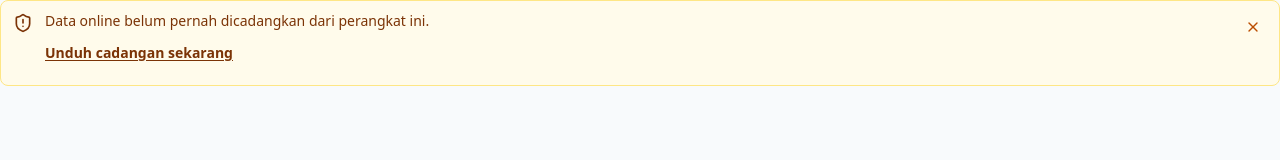
Test: BackupReminderBanner › online: reminds the owner/admin and downloads the full online backup
This screenshot has width=1280, height=160.
expect the text "Data online belum pernah dicadangkan dari perangkat ini." is shown: met, box [45,11,429,30]
Click the button "Unduh cadangan sekarang" at {"x": 139, "y": 53}, box [37,31,241,75]
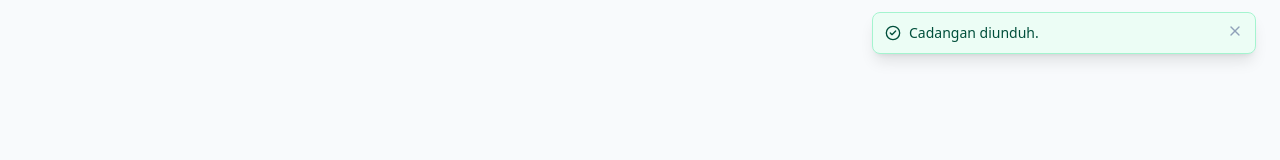
expect the text "belum pernah dicadangkan" is gone: met
expect the text "Cadangan diunduh." is shown: met, box [909,23,1039,42]
